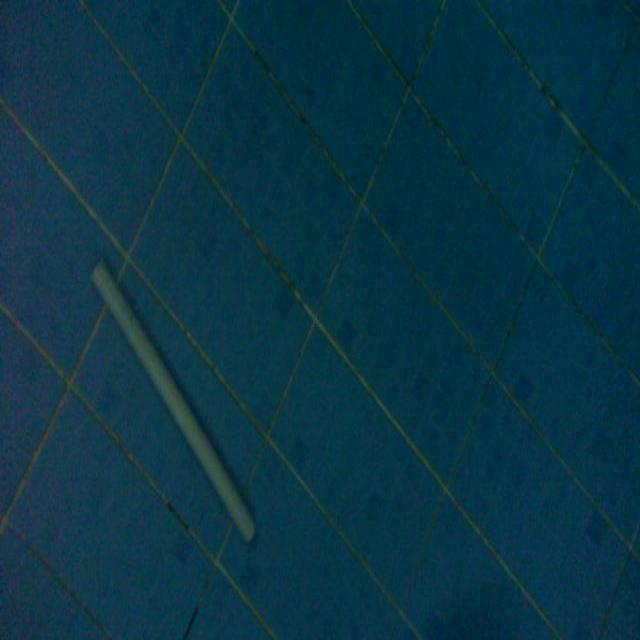Cube: (89, 252, 257, 546)
